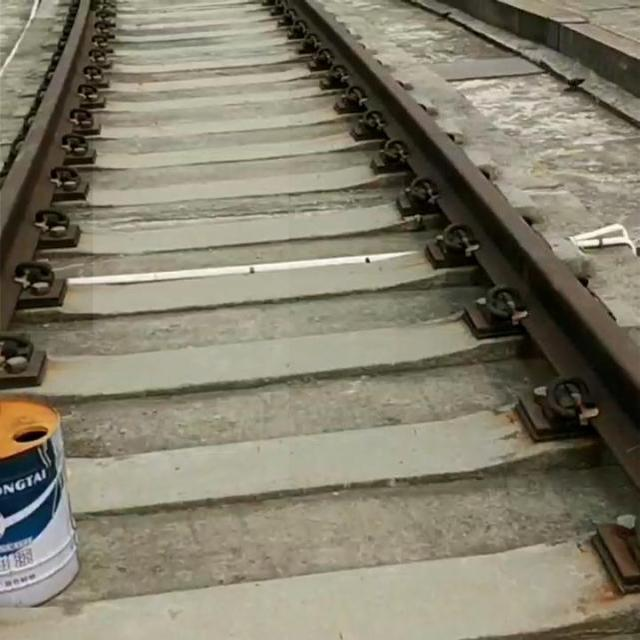rail: (291, 1, 640, 488), (2, 1, 94, 332)
